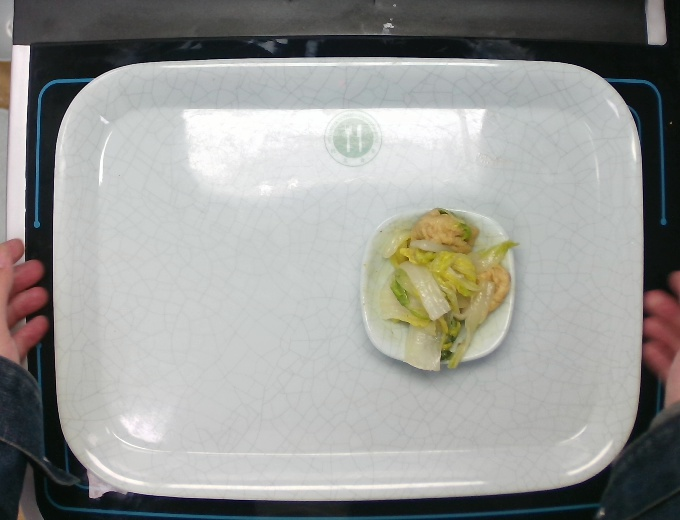JYsf-Si_Fang_Die: (354, 205, 522, 371)
